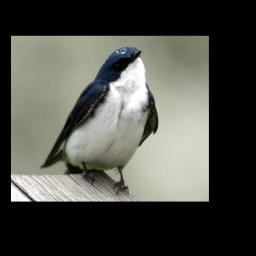Swallow: (39, 45, 159, 196)
